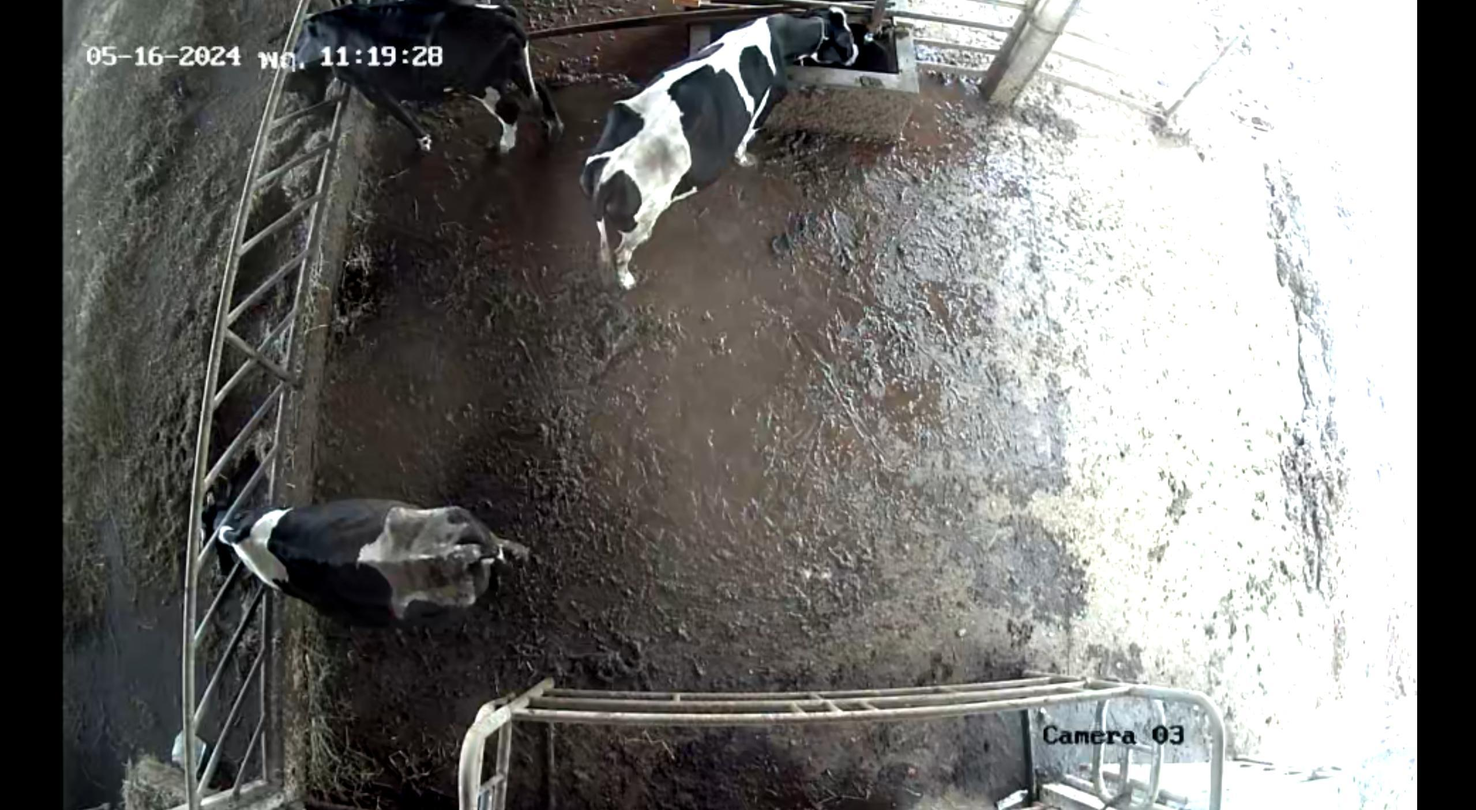drink: (754, 0, 876, 137)
eat: (158, 481, 308, 585), (241, 17, 385, 120)
